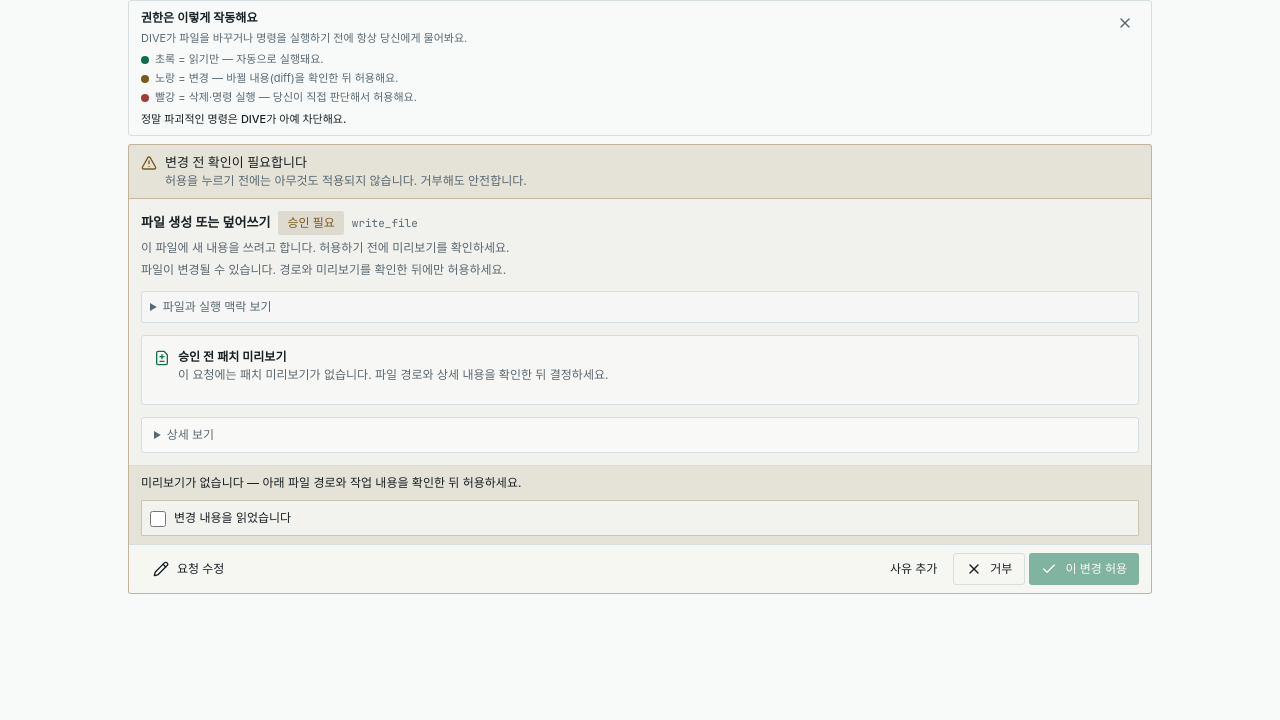
Test: ToolActivity provocation permission gate › gates a diff-less warn write behind the read-confirm checkbox
The image size is (1280, 720).
Expected: the element with test id "permission-approval-requirement" is shown, x1=129 y1=465 x2=1151 y2=544
Expected: the button with test id "card-approve" is disabled, x1=1029 y1=553 x2=1139 y2=585
Click the checkbox with test id "permission-read-confirm-checkbox".
click(158, 519)  # box x1=150 y1=511 x2=166 y2=527
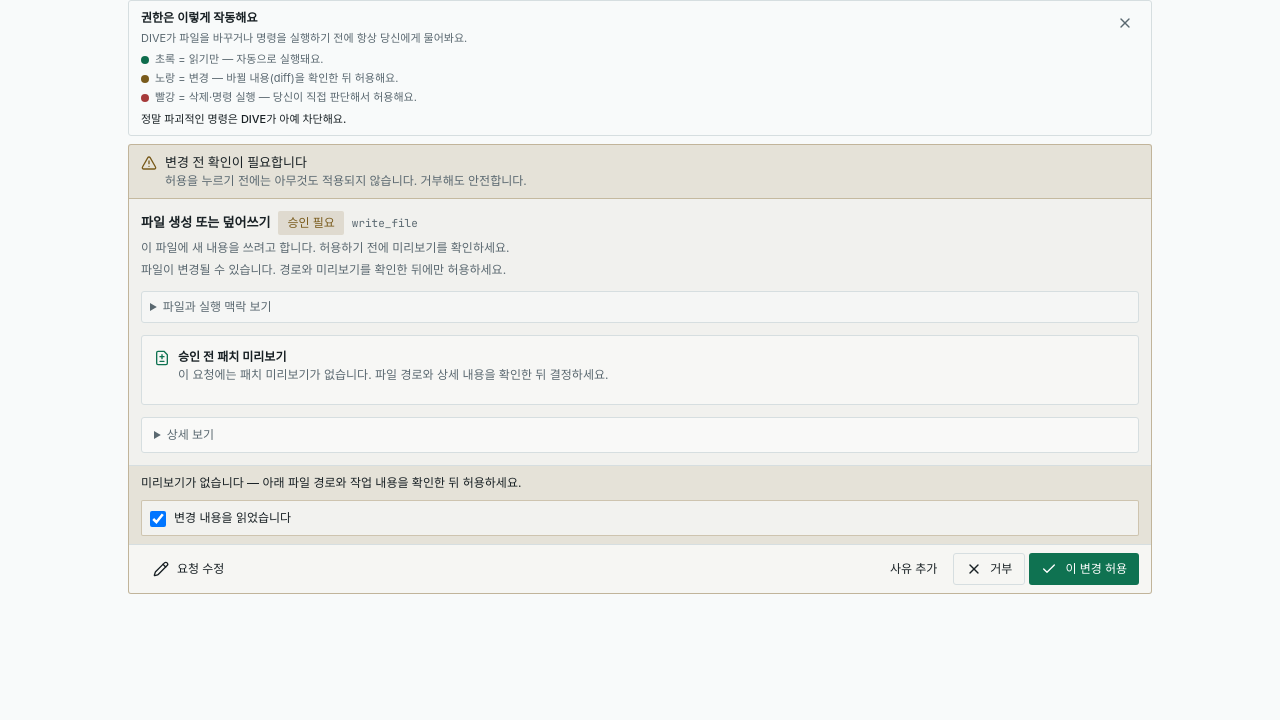
Expected: the button with test id "card-approve" is enabled, x1=1029 y1=553 x2=1139 y2=585
